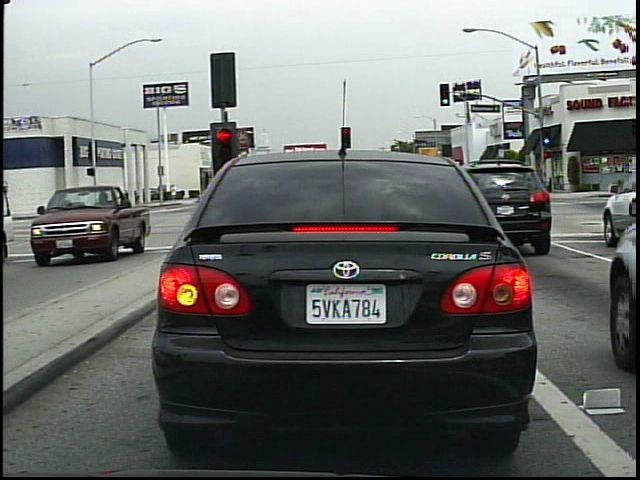person: (169, 181, 180, 204)
